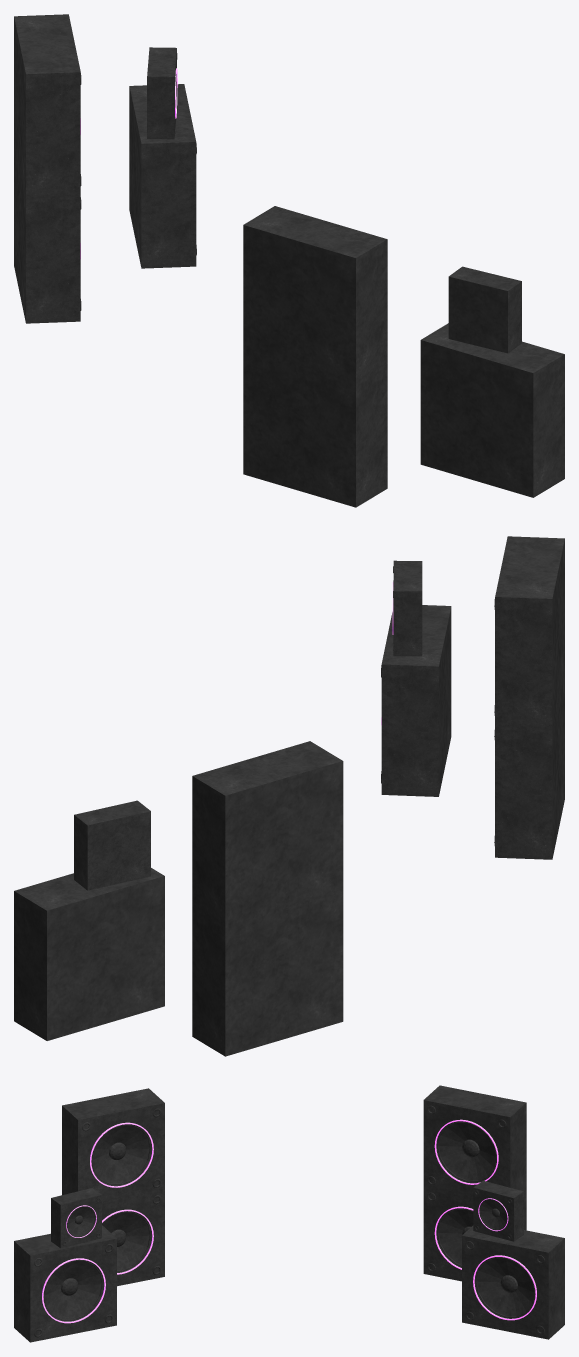
File: Speakers.glb
3 views of the same model, one above another, from view 1: azimuth 30°, elevation 25°; view 2: azimuth 150°, elevation 25°; view 3: azimuth 270°, elevation 25° (orthographic). The views are drawn at different scales.
Visible parts, largest first — view 1: Large Speakers.016, Large Speakers.012, Large Speakers.013, Large Speakers.017, Large Speakers.014, Large Speakers.015, Small Speakers.004, Small Speakers.005; view 2: Large Speakers.017, Large Speakers.014, Large Speakers.015, Large Speakers.016, Large Speakers.012, Large Speakers.013, Small Speakers.005, Small Speakers.004; view 3: Large Speakers.016, Large Speakers.014, Large Speakers.017, Large Speakers.012, Large Speakers.013, Large Speakers.015, Small Speakers.004, Small Speakers.005.
Boxes of the visible parts, bbox=[...] form: Large Speakers.016: bbox=[243, 206, 387, 382]; Large Speakers.012: bbox=[420, 323, 564, 497]; Large Speakers.013: bbox=[243, 349, 387, 507]; Large Speakers.017: bbox=[14, 14, 81, 198]; Large Speakers.014: bbox=[129, 84, 196, 268]; Large Speakers.015: bbox=[14, 142, 81, 323]; Small Speakers.004: bbox=[448, 266, 521, 353]; Small Speakers.005: bbox=[147, 47, 177, 139]; Large Speakers.017: bbox=[192, 741, 343, 925]; Large Speakers.014: bbox=[14, 868, 164, 1040]; Large Speakers.015: bbox=[192, 891, 343, 1056]; Large Speakers.016: bbox=[494, 536, 564, 729]; Large Speakers.012: bbox=[381, 605, 451, 796]; Large Speakers.013: bbox=[494, 670, 564, 859]; Small Speakers.005: bbox=[74, 800, 150, 890]; Small Speakers.004: bbox=[392, 560, 422, 656]; Large Speakers.016: bbox=[62, 1088, 164, 1202]; Large Speakers.014: bbox=[462, 1225, 564, 1339]; Large Speakers.017: bbox=[423, 1085, 526, 1196]; Large Speakers.012: bbox=[14, 1225, 116, 1342]; Large Speakers.013: bbox=[62, 1190, 164, 1286]; Large Speakers.015: bbox=[423, 1187, 526, 1281]; Small Speakers.004: bbox=[51, 1188, 101, 1248]; Small Speakers.005: bbox=[473, 1180, 523, 1241].
Size of what is drawn, in the model's own units: 2.06 by 2 by 5.75.
2 materials, 1 textured.
